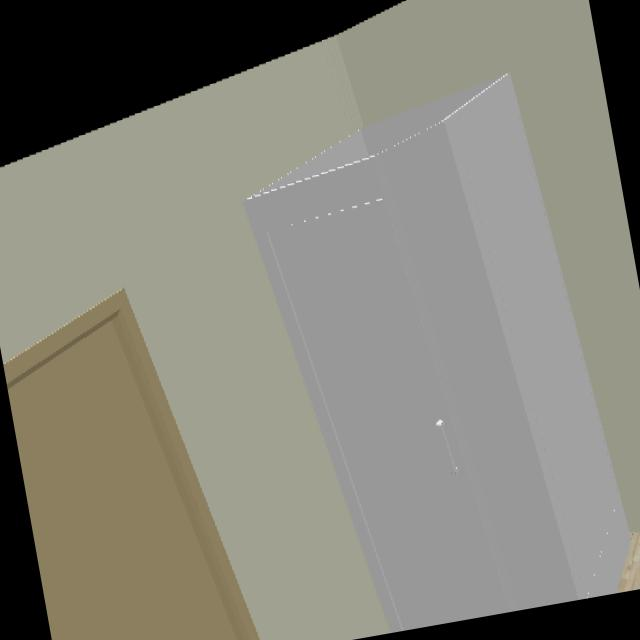shower: (241, 74, 631, 634)
